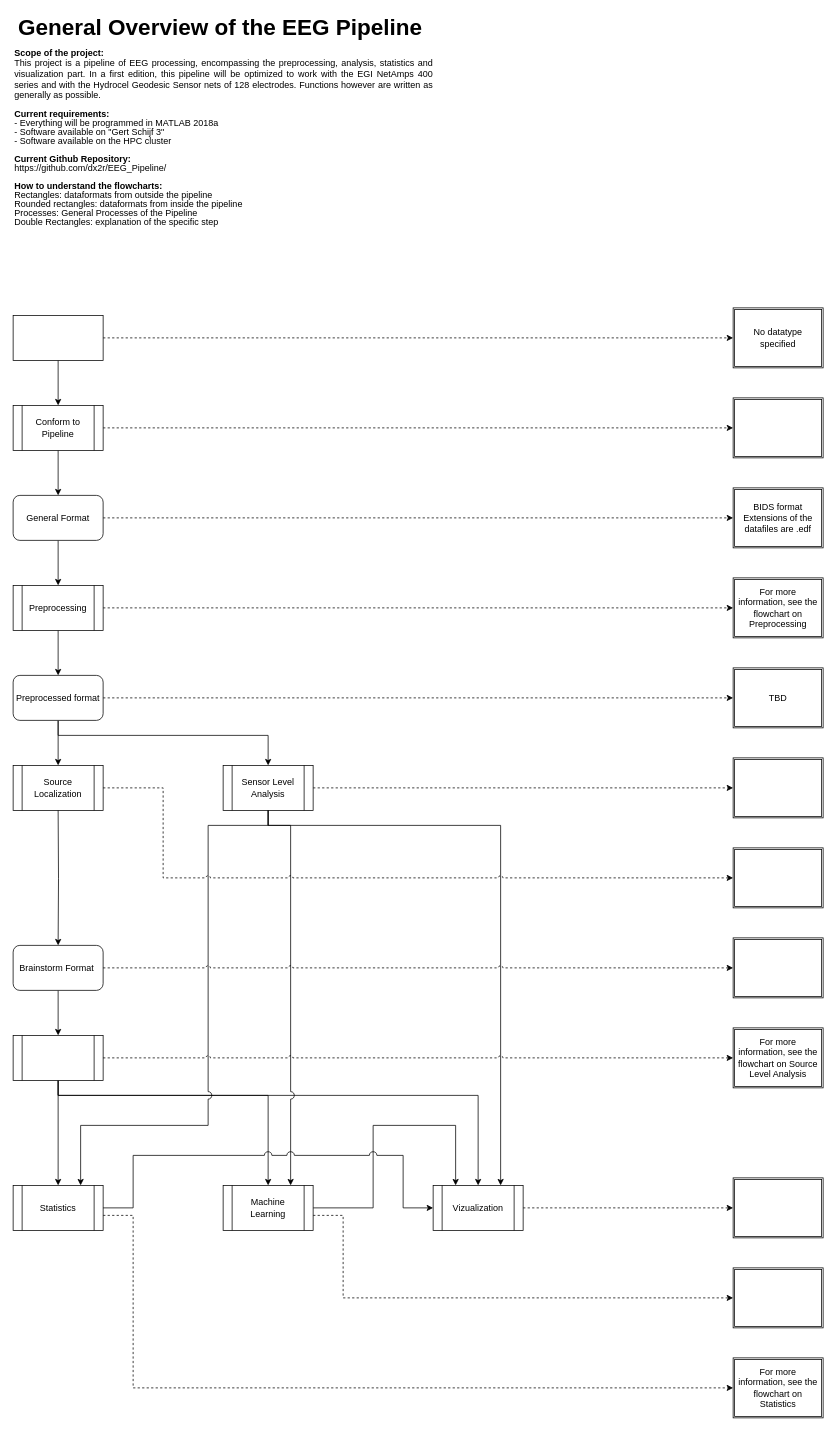
Image size: 836x1431. Some labels were removed from this diagram. Each missing label, with the centre of its shape:
".mat object, generated by brainstorm itself. For an example, see GitHub." belongs at [777,967].
"EEG Dataset" belongs at [57,337].
"For more information, see the flowchart on Machine Learning" belongs at [777,1297].
"For more information, see the flowchart on Sensor Level Analysis" belongs at [777,787].
"For More Information, see the flowchart on Source Localization" belongs at [777,877].
"For more information, see the flowchart on Vizualization" belongs at [777,1207].
"Rework the dataset towards the one used in the pipeline (BIDS, .edf)" belongs at [777,427].
"Source Level Analysis" belongs at [57,1057].
